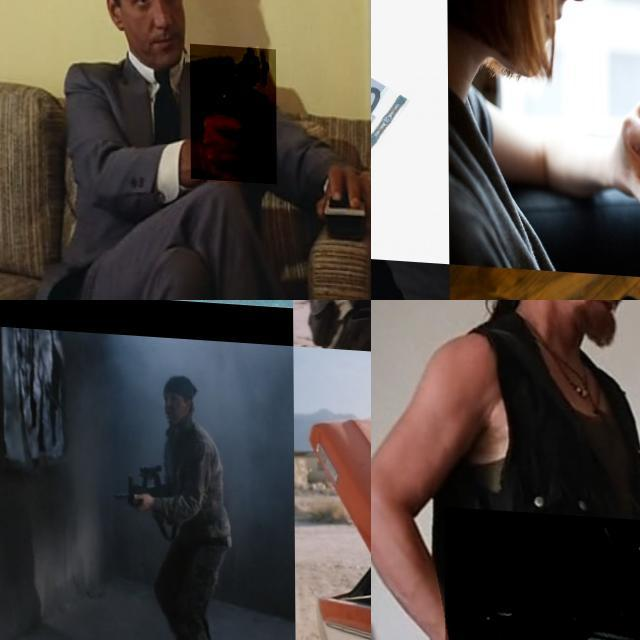gun-knife-thesis - v11 Yolov5 augmented: (443, 505, 640, 640), (190, 40, 276, 179), (54, 300, 220, 348), (110, 458, 178, 537)
